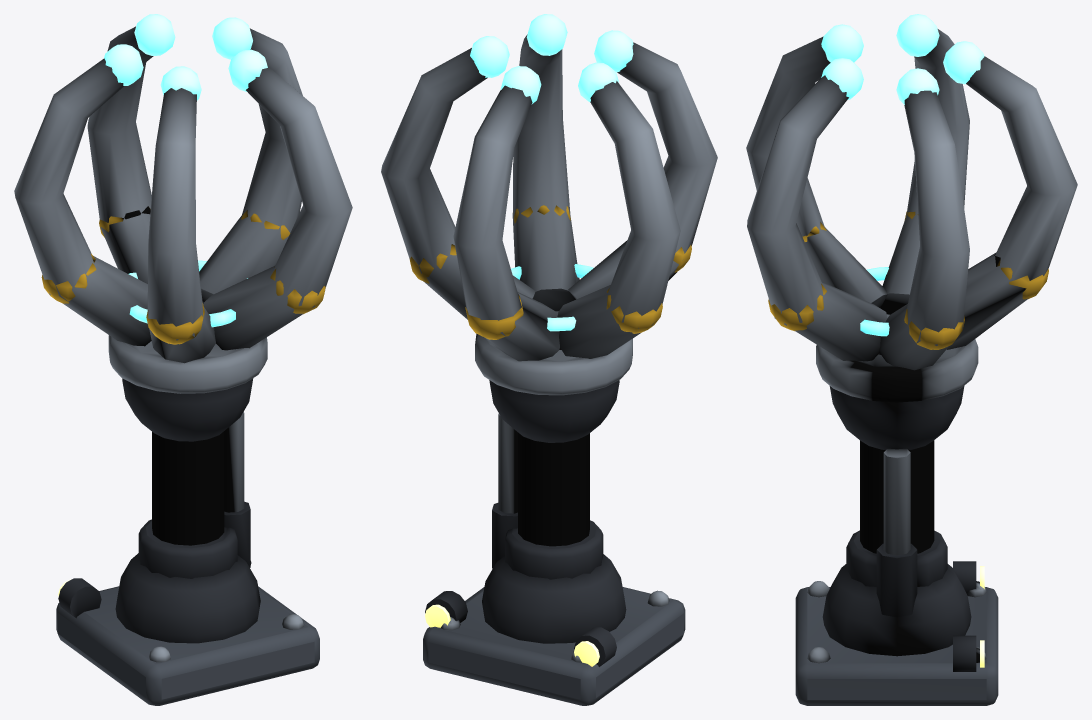
The model's file is part_grapple_4.glb.
3 views of the same model, side by side, from view 1: azimuth 30°, elevation 25°; view 2: azimuth 150°, elevation 25°; view 3: azimuth 270°, elevation 25° (orthographic). The views are drawn at different scales.
Visible parts, largest first — view 1: grapple_claw_mesh.003, grapple_base.003, grapple_arm_mesh.003; view 2: grapple_claw_mesh.003, grapple_base.003, grapple_arm_mesh.003; view 3: grapple_claw_mesh.003, grapple_base.003, grapple_arm_mesh.003.
Boxes of the visible parts, x1=… form: grapple_claw_mesh.003: x1=14, y1=14, x2=352, y2=441; grapple_base.003: x1=56, y1=553, x2=319, y2=705; grapple_arm_mesh.003: x1=138, y1=412, x2=250, y2=578; grapple_claw_mesh.003: x1=381, y1=14, x2=717, y2=442; grapple_base.003: x1=423, y1=554, x2=685, y2=705; grapple_arm_mesh.003: x1=492, y1=413, x2=603, y2=579; grapple_claw_mesh.003: x1=746, y1=14, x2=1077, y2=449; grapple_base.003: x1=795, y1=561, x2=998, y2=705; grapple_arm_mesh.003: x1=846, y1=440, x2=947, y2=617.
Bounding box in the file's own units: 0.7421 × 1.52 × 0.7116.
